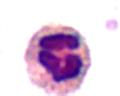eosi: (21, 21, 94, 95)
